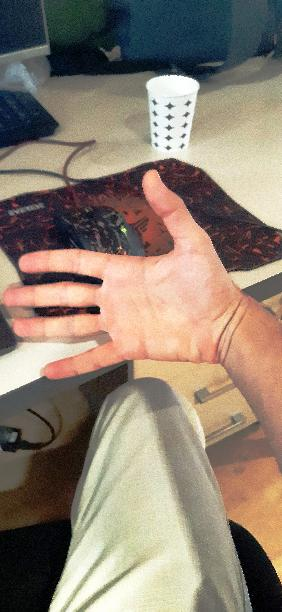Paper: (0, 170, 237, 384)
